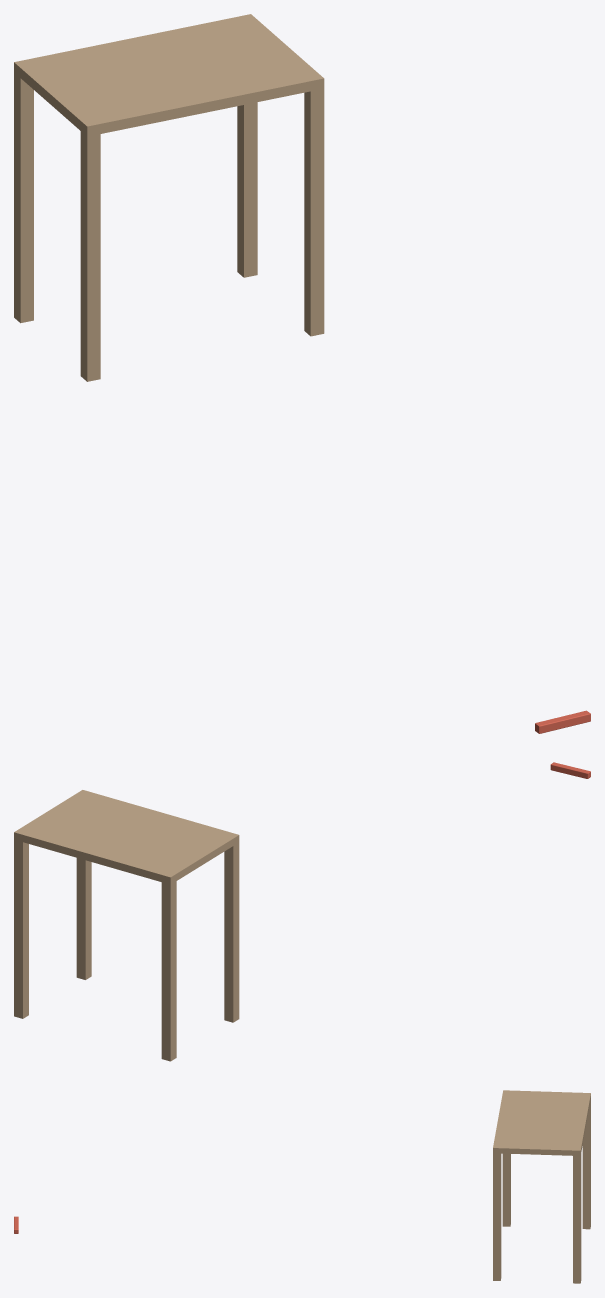
Rendered from hum_20_inhand_translate_props.glb.
3 views of the same model, one above another, from view 1: azimuth 30°, elevation 25°; view 2: azimuth 150°, elevation 25°; view 3: azimuth 270°, elevation 25° (orthographic). The views are drawn at different scales.
Parts seen in each view (by area): view 1: s_mesh_00; view 2: s_mesh_00; view 3: s_mesh_00.
Boxes of the visible parts, <box> form: s_mesh_00: <box>14,14,324,381</box>; s_mesh_00: <box>14,790,239,1061</box>; s_mesh_00: <box>493,1090,590,1283</box>.
Size of the model in its own units: 0.7872 by 0.762 by 2.95.
